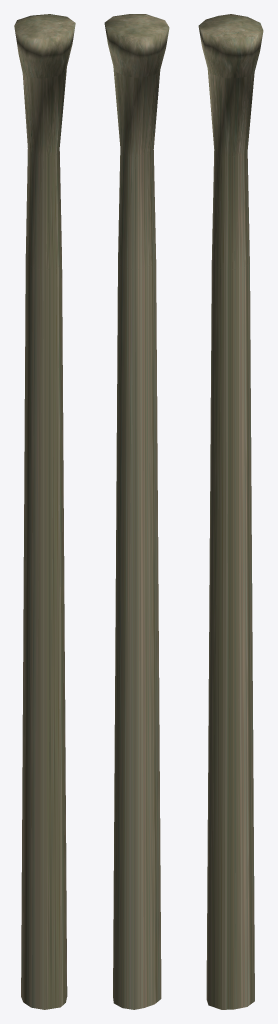
Rendered from INST_OH_PITPILLAR_01.fbx.
The picture shows the model from 3 angles, left to right: view 1: azimuth 30°, elevation 25°; view 2: azimuth 150°, elevation 25°; view 3: azimuth 330°, elevation 25°; orthographic projection.
Parts seen in each view (by area): view 1: INST_OH_PITPILLAR_01; view 2: INST_OH_PITPILLAR_01; view 3: INST_OH_PITPILLAR_01.
Boxes of the visible parts, x1,y1,x2,y2 form: INST_OH_PITPILLAR_01: (14,14,75,1009); INST_OH_PITPILLAR_01: (104,14,169,1009); INST_OH_PITPILLAR_01: (198,14,263,1009).
Size of the model in its own units: 13486 by 229901 by 12525.
Materials: 1 (1 with a texture image).
